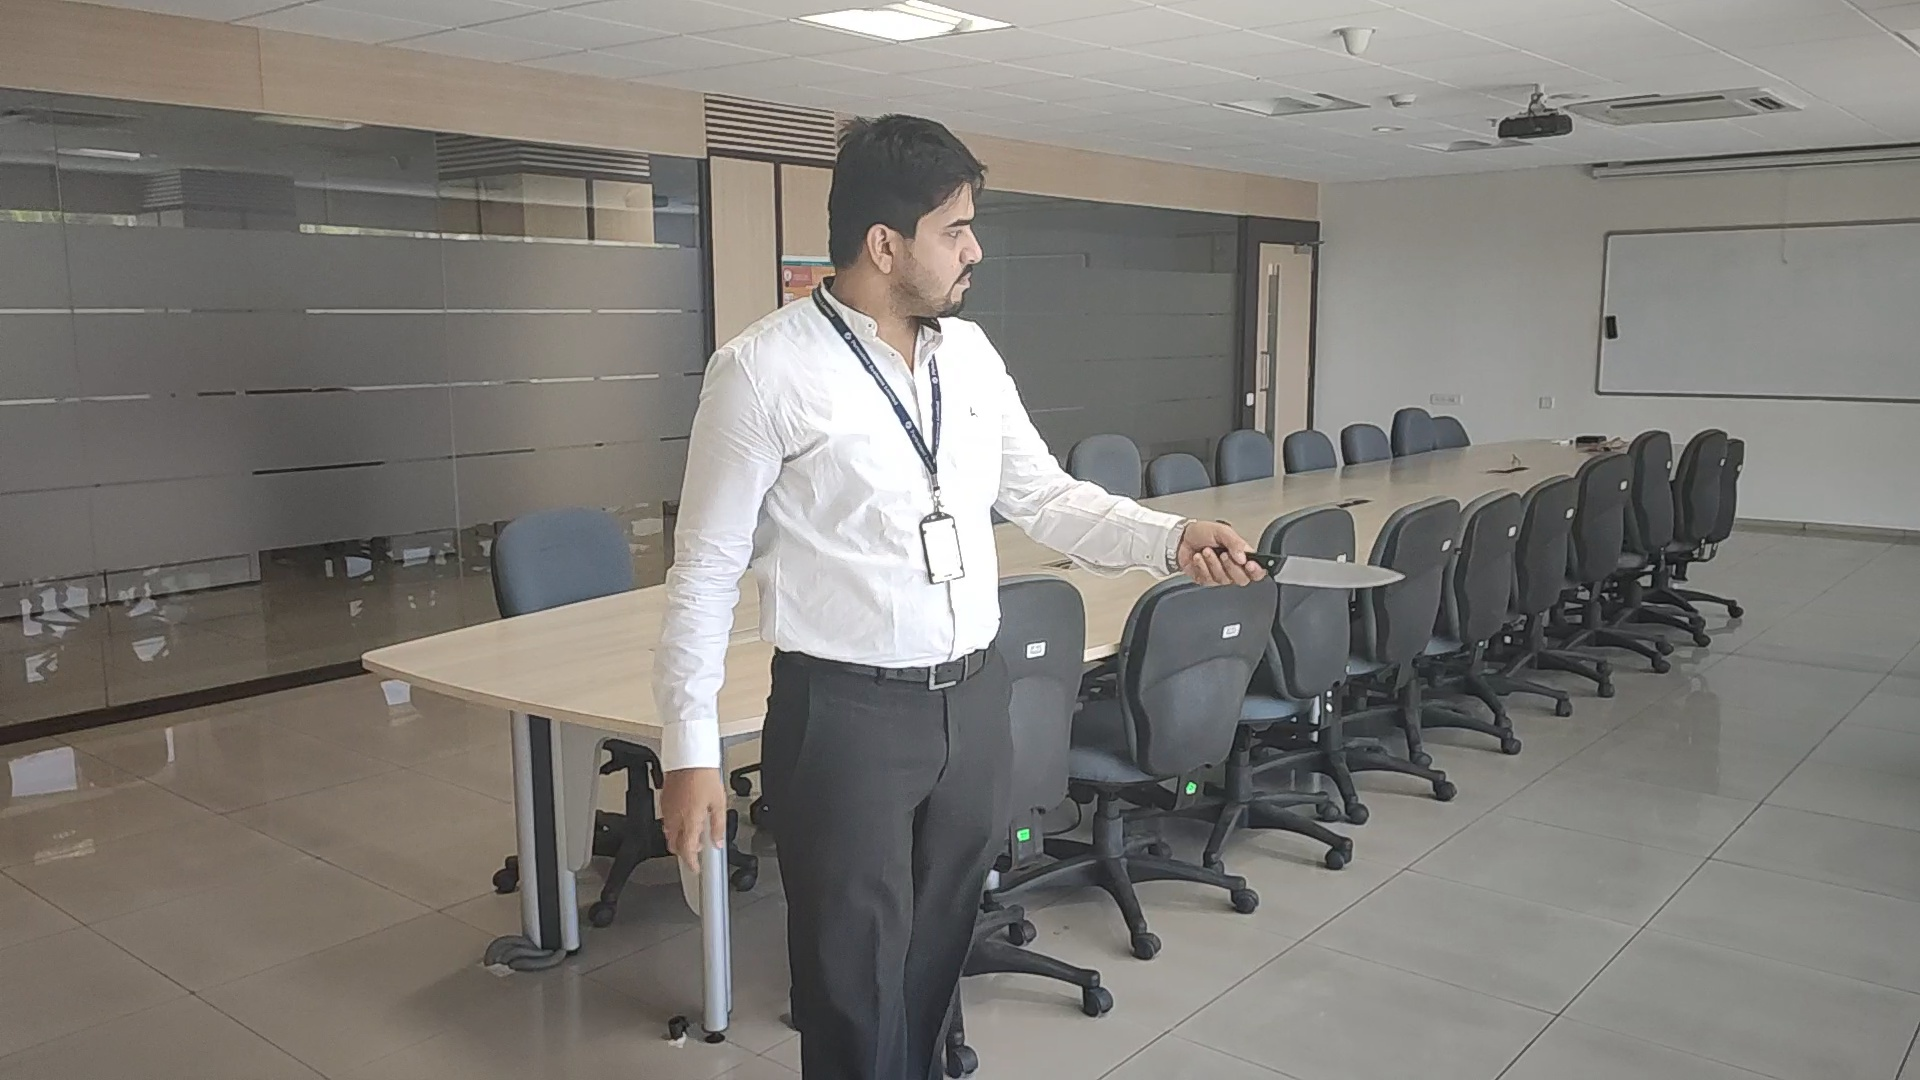knife: (1269, 553, 1407, 589)
